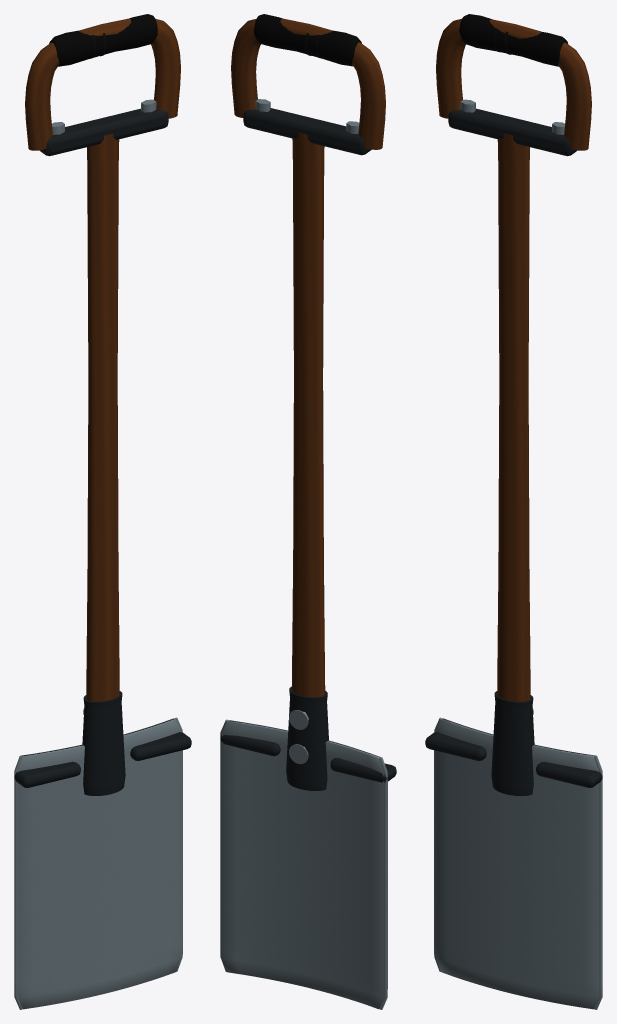
Rendered from GardenSpade.gltf.
3 views of the same model, side by side, from view 1: azimuth 30°, elevation 25°; view 2: azimuth 150°, elevation 25°; view 3: azimuth 330°, elevation 25° (orthographic).
Visible parts, largest first — view 1: GardenSpade__Body; view 2: GardenSpade__Body; view 3: GardenSpade__Body.
Boxes of the visible parts, bbox=[...] form: GardenSpade__Body: bbox=[14, 14, 191, 1009]; GardenSpade__Body: bbox=[220, 14, 396, 1009]; GardenSpade__Body: bbox=[425, 14, 602, 1009].
Bounding box in the file's own units: 0.1848 × 1.01 × 0.0346.
Materials: 1 (1 with a texture image).
